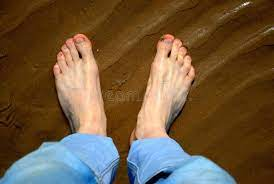Feet: (134, 33, 196, 145), (52, 33, 108, 135)
